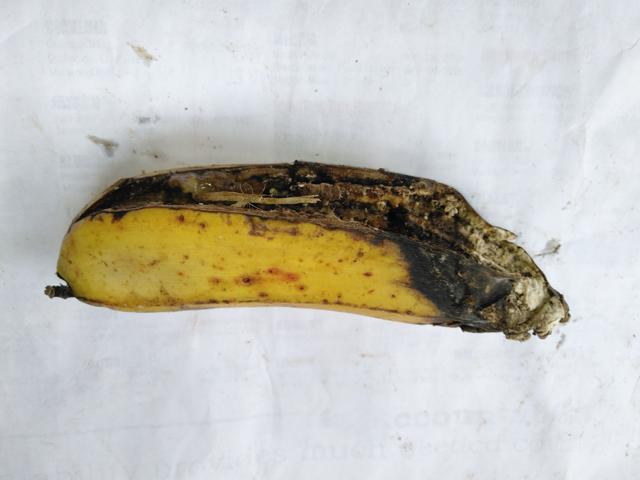rotten: (89, 140, 568, 366)
